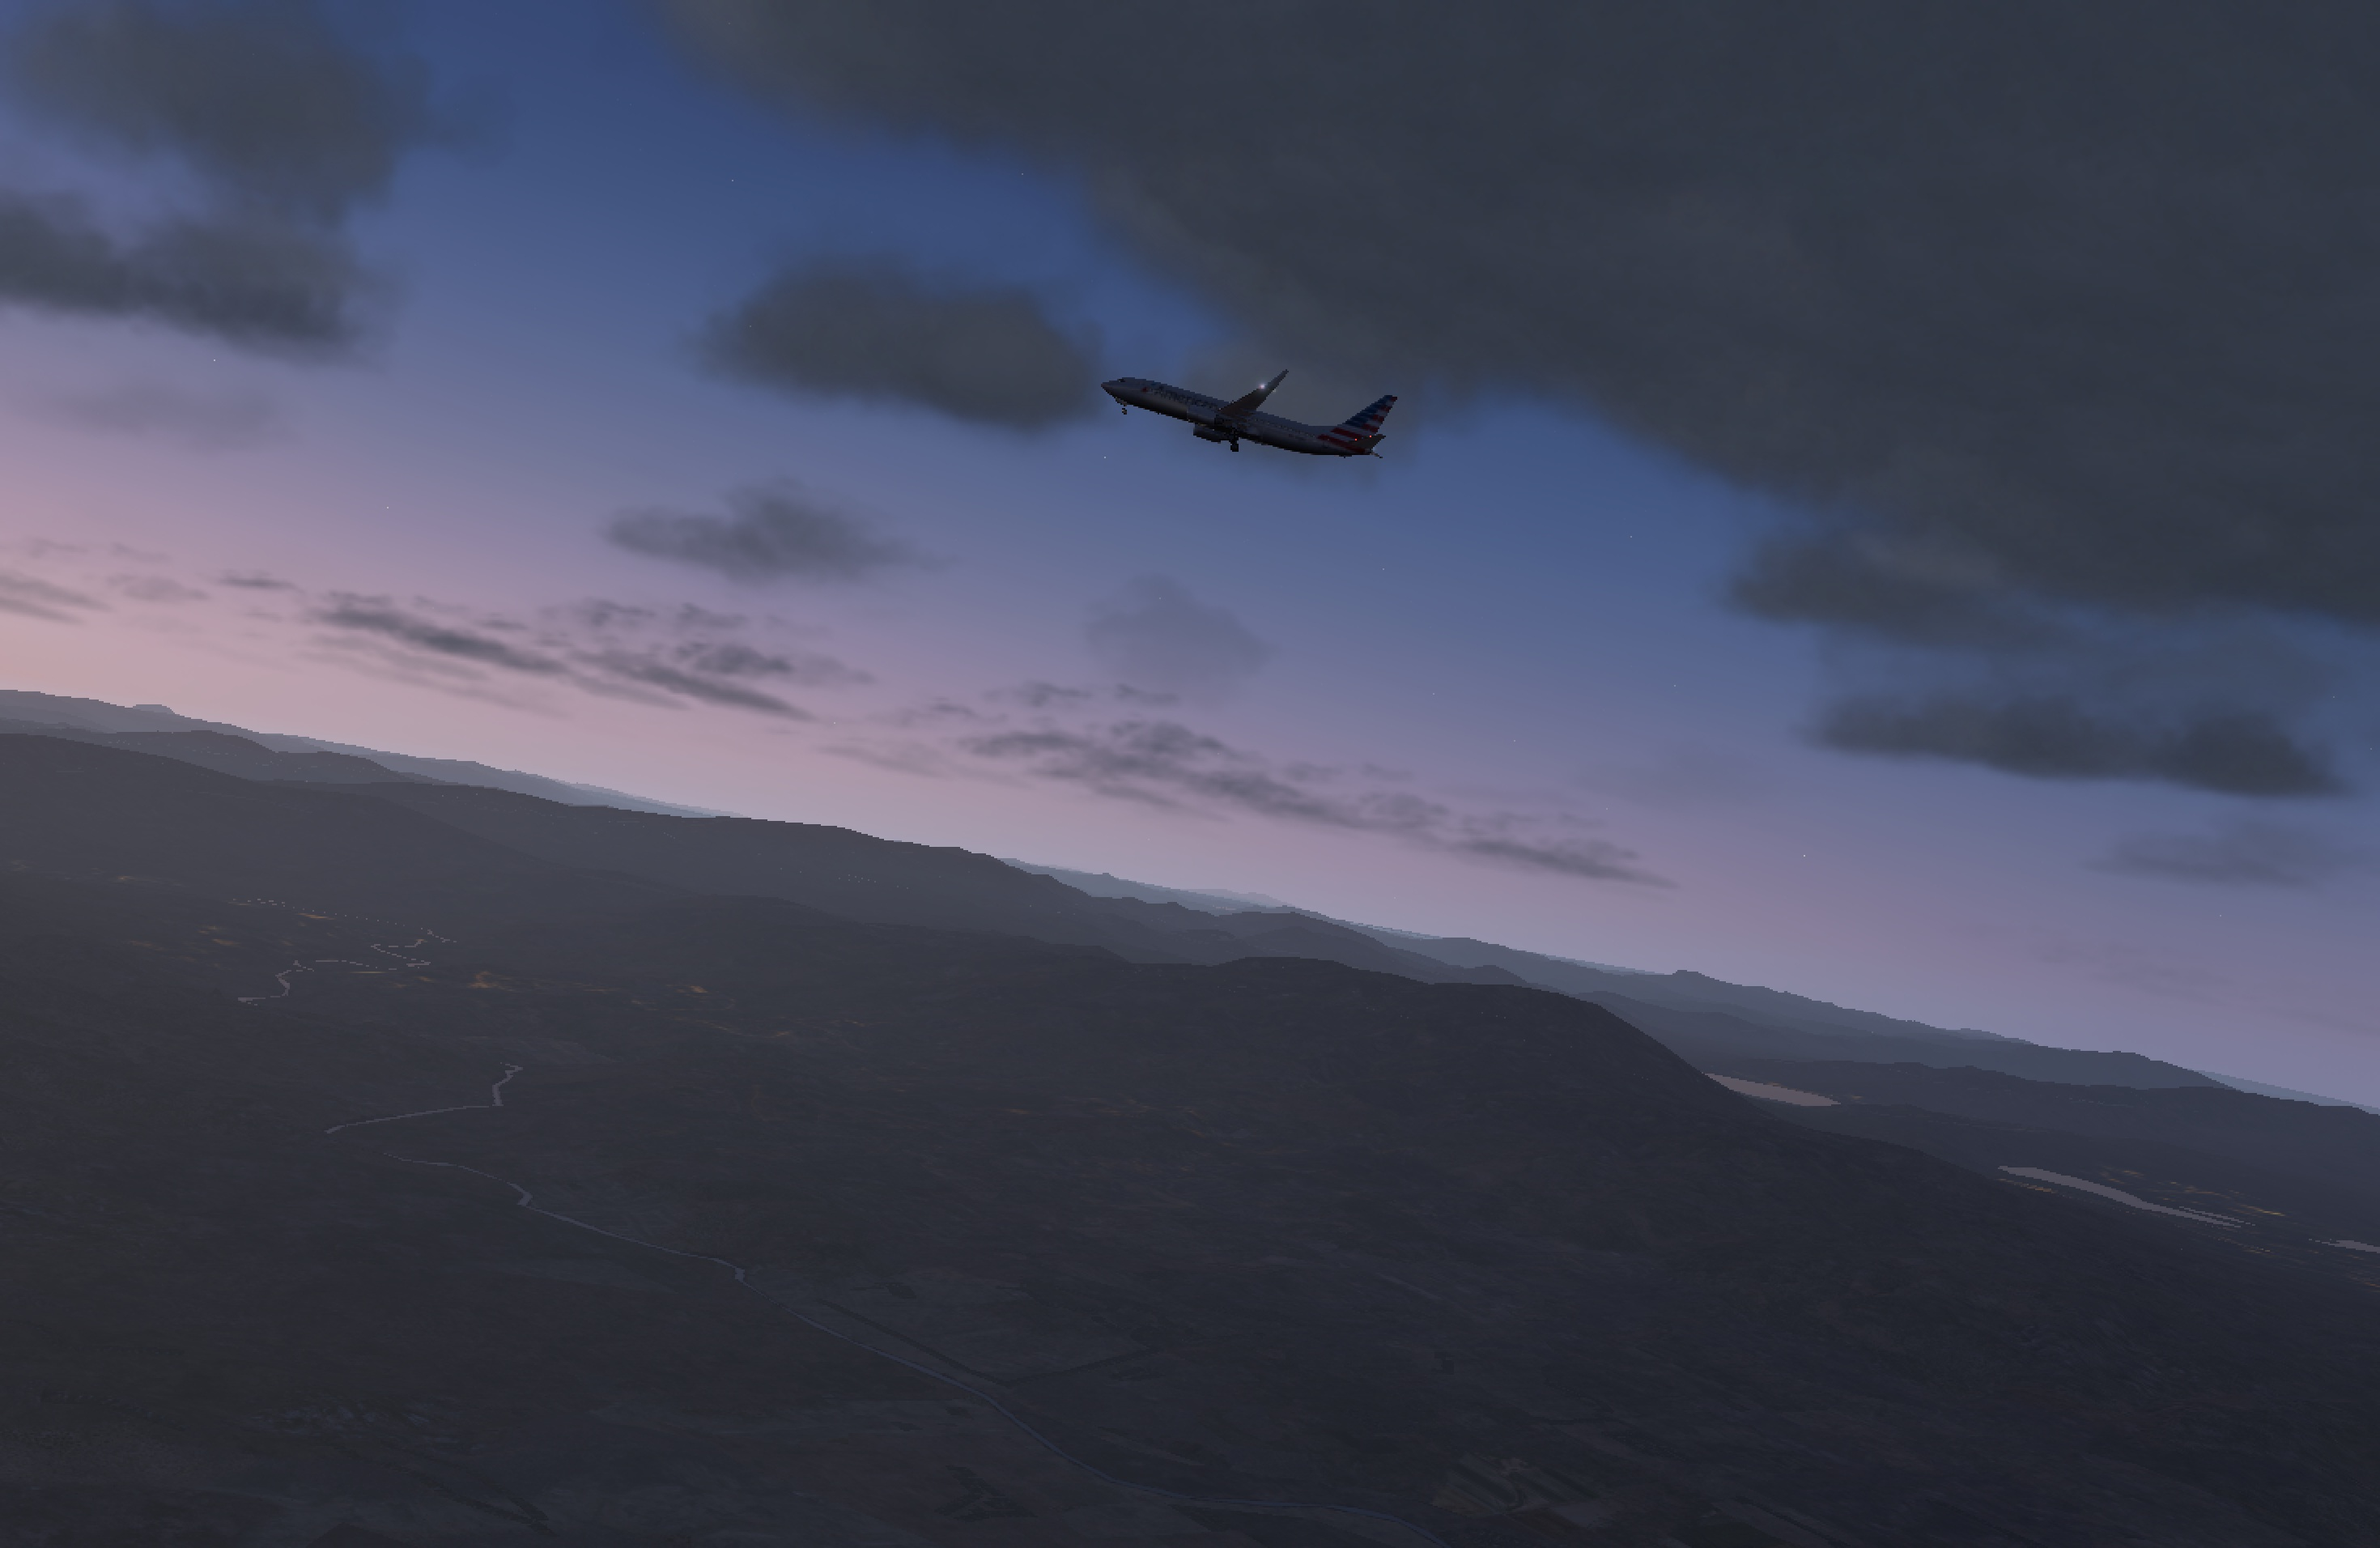aircraft: (1086, 370, 1372, 477)
